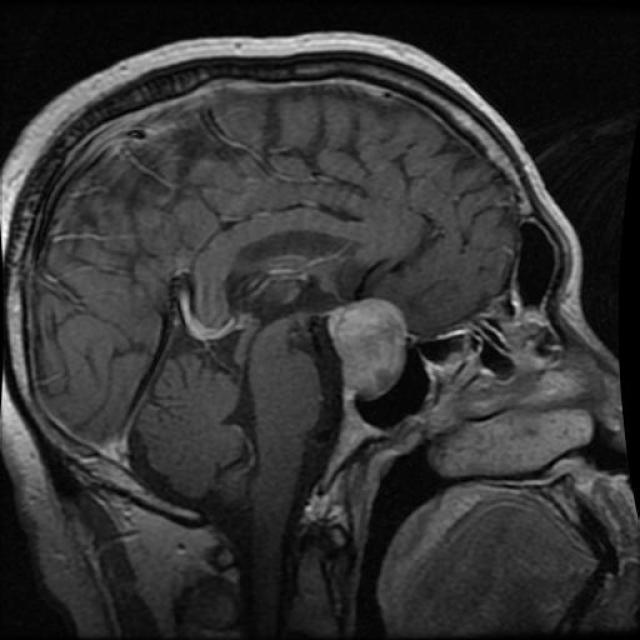pituitary: (327, 298, 410, 406)
